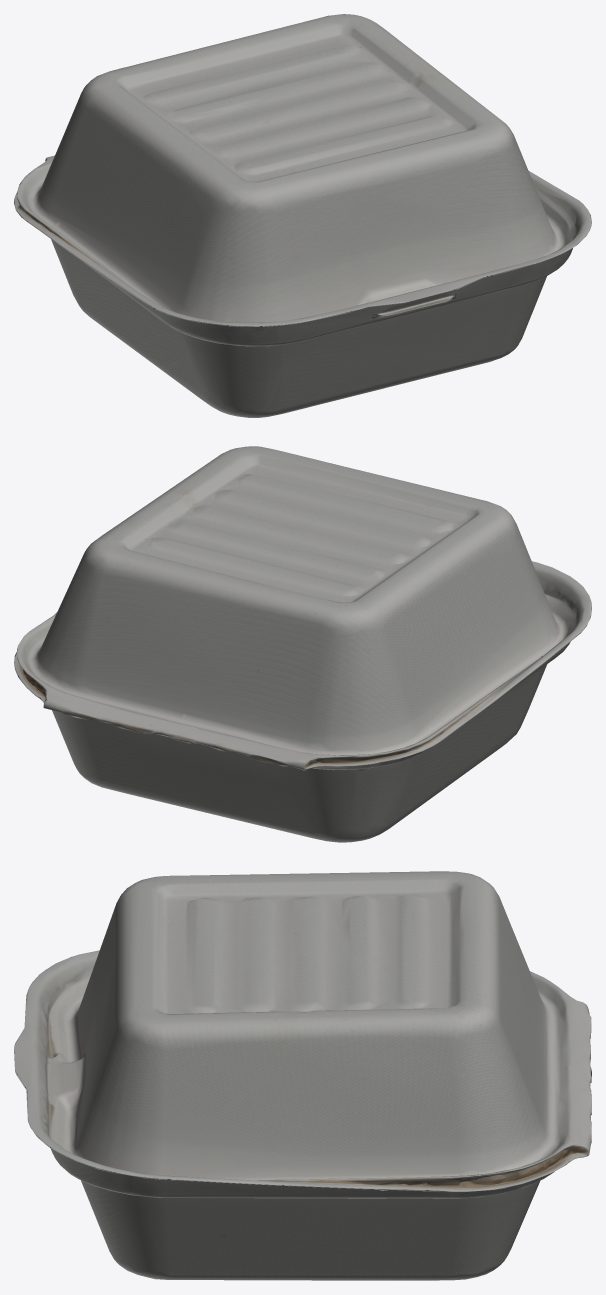
File: takeawaybox.fbx
The picture shows the model from 3 angles, top to bottom: view 1: azimuth 30°, elevation 25°; view 2: azimuth 150°, elevation 25°; view 3: azimuth 270°, elevation 25°; orthographic projection. The views are drawn at different scales.
Visible parts, largest first — view 1: Compostable Burger Box; view 2: Compostable Burger Box; view 3: Compostable Burger Box.
Part boxes in pixels (x1=…): Compostable Burger Box: x1=14, y1=14, x2=591, y2=417; Compostable Burger Box: x1=14, y1=446, x2=591, y2=842; Compostable Burger Box: x1=14, y1=871, x2=591, y2=1280.
Bounding box in the file's own units: 15.39 × 8.13 × 16.01.
Materials: 1 (1 with a texture image).
